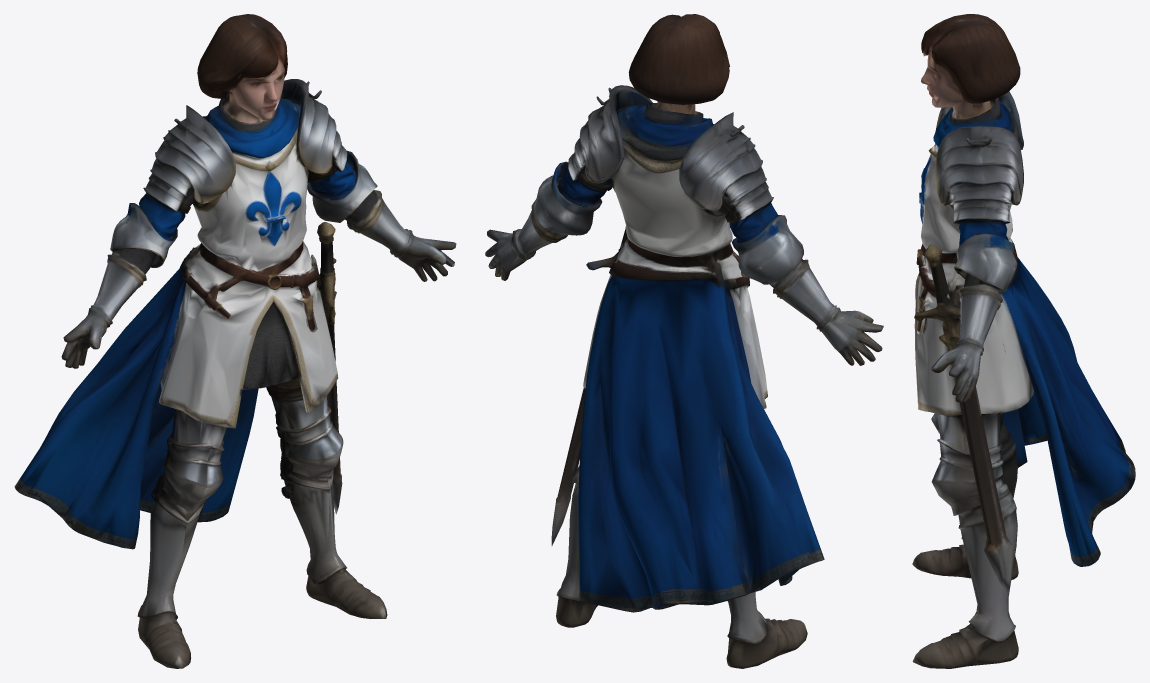
The model's file is hum_h2.glb.
The picture shows the model from 3 angles, left to right: view 1: azimuth 30°, elevation 25°; view 2: azimuth 150°, elevation 25°; view 3: azimuth 270°, elevation 25°; orthographic projection. The views are drawn at different scales.
Parts seen in each view (by area): view 1: node_0; view 2: node_0; view 3: node_0.
Part boxes in pixels (<box>): node_0: <box>14,14,456,668</box>; node_0: <box>485,14,883,668</box>; node_0: <box>912,14,1135,668</box>.
Bounding box in the file's own units: 0.7302 × 1.08 × 0.3679.
1 material, 1 textured.
